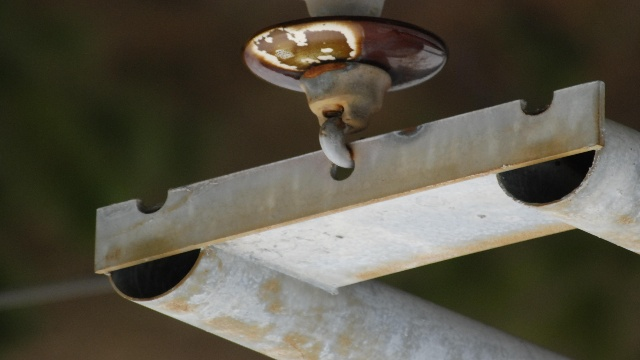insulator_unspecified: (240, 17, 450, 94)
pollution_flashover_local: (244, 16, 370, 76)
